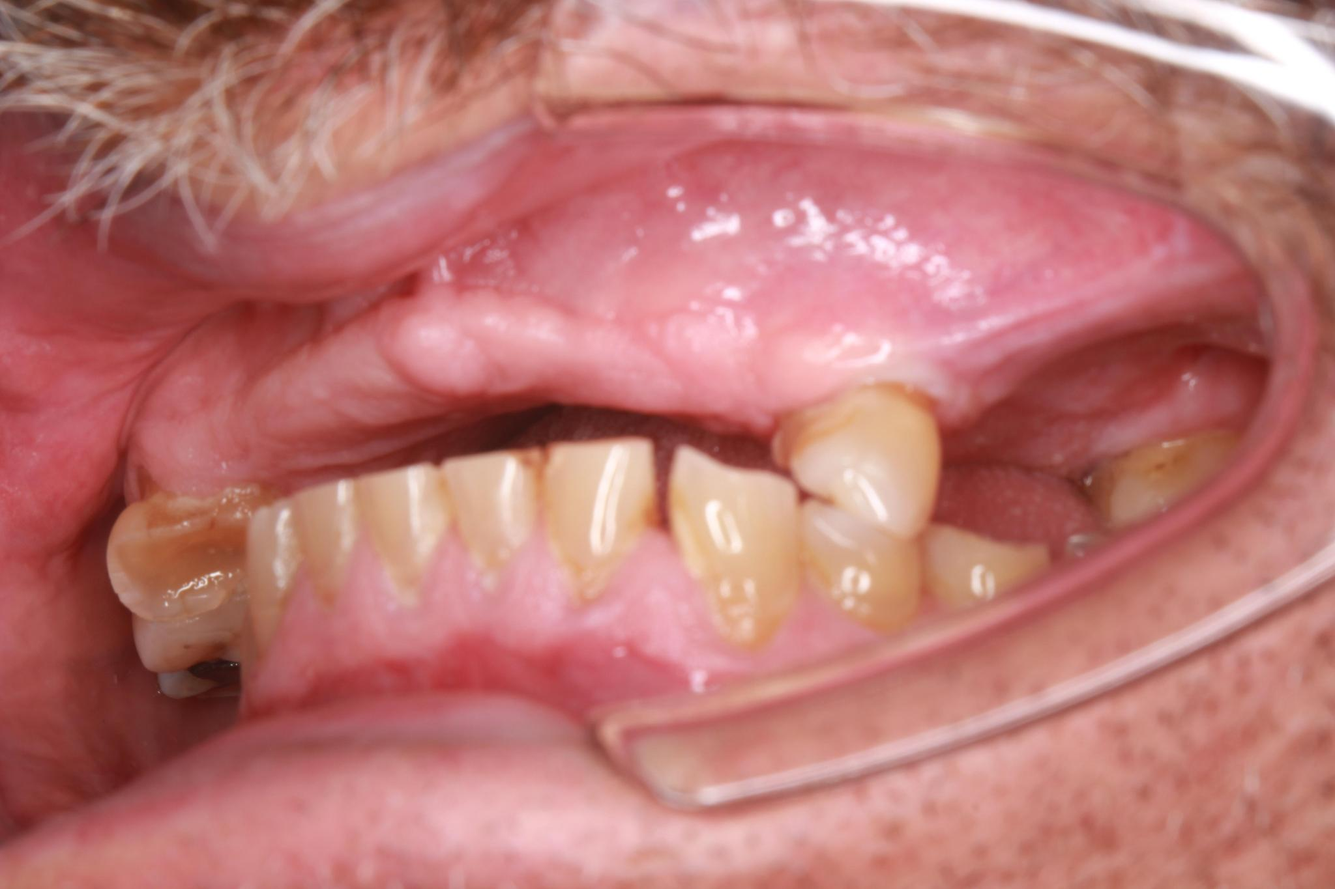Fractured Teeth: (665, 431, 812, 636), (104, 477, 291, 625)
